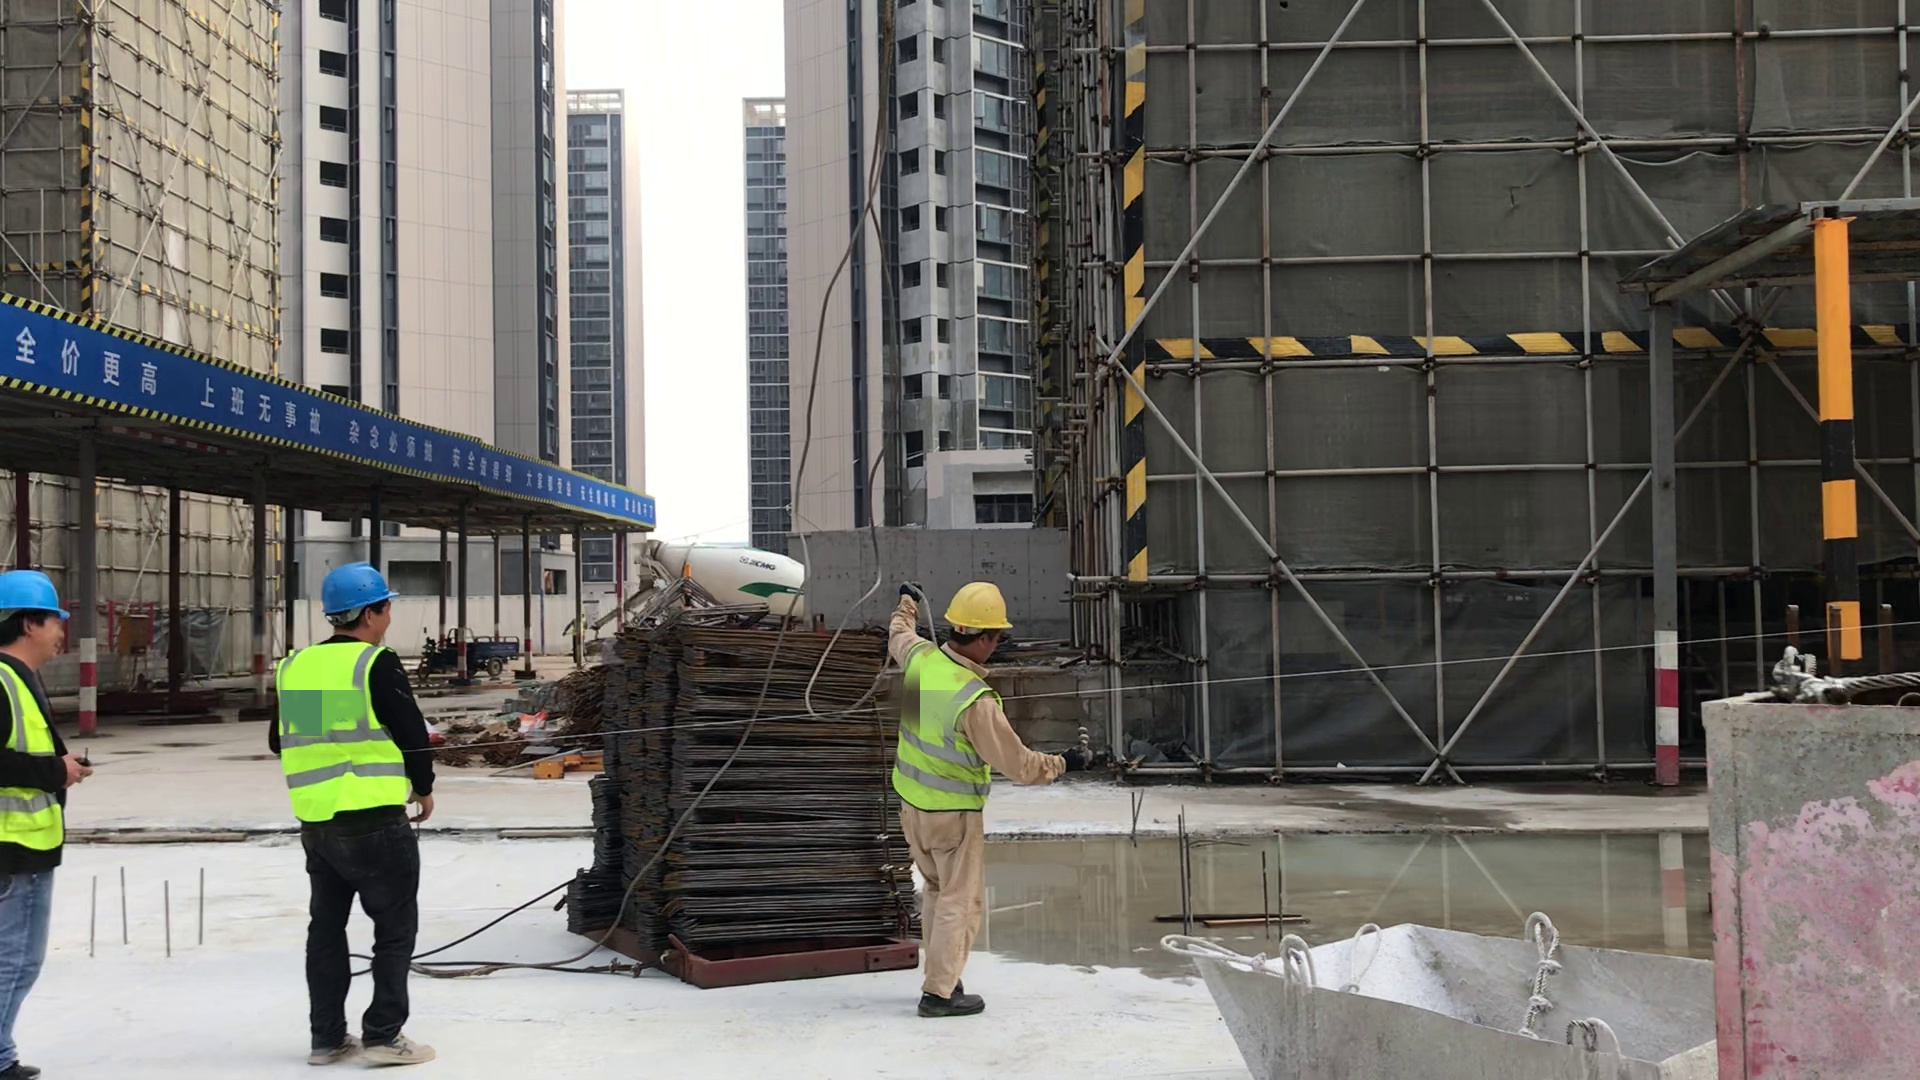ebox: (119, 615, 147, 659)
helmet: (320, 562, 402, 611), (1, 566, 74, 619), (943, 581, 1013, 635)
hopper: (1185, 922, 1720, 1080)
person: (273, 561, 438, 1069), (892, 580, 1055, 1023), (1, 566, 88, 1080)
slogan: (9, 318, 659, 519)
vest: (277, 646, 408, 820), (896, 661, 992, 815), (1, 661, 63, 862)
